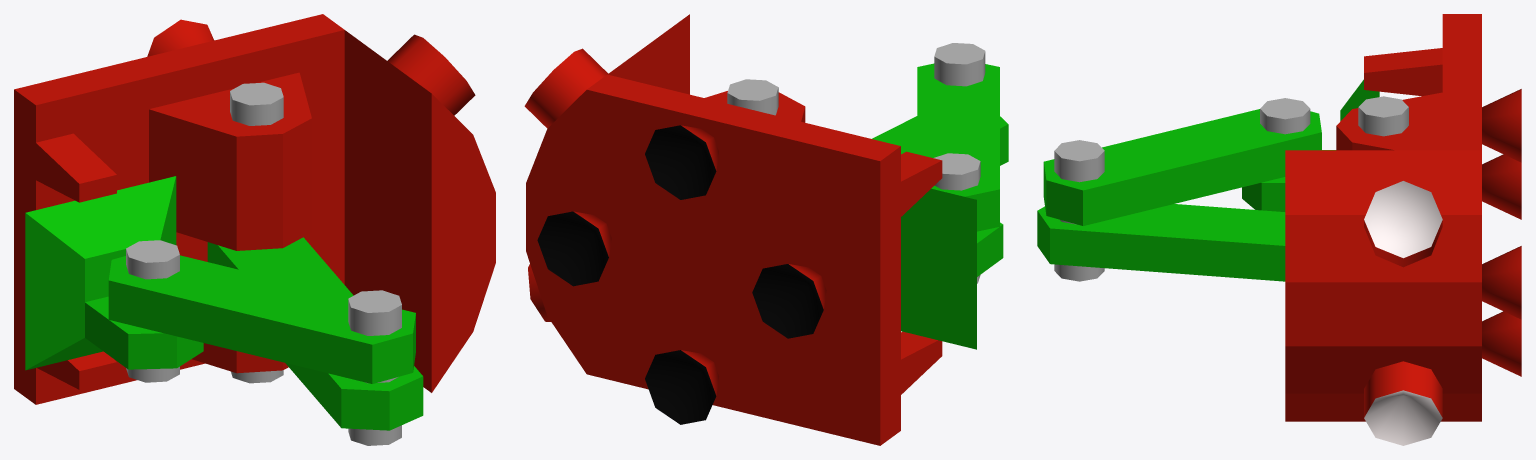
File: robot_builder.gltf
The picture shows the model from 3 angles, left to right: view 1: azimuth 30°, elevation 25°; view 2: azimuth 150°, elevation 25°; view 3: azimuth 270°, elevation 25°; orthographic projection. The views are drawn at different scales.
Parts seen in each view (by area): view 1: BodyBase, Cube.003, Cube.001, Cube.004, Cube.002, SonarLeft, Cylinder2, Cylinder1, Cylinder3, Cube, Nozzle2; view 2: BodyBase, Cube.004, Cube.003, Nozzle2.001, Nozzle2.002, Nozzle2.003, Nozzle2.004, SonarLeft, Cylinder2, Cylinder1, Cylinder3, Cube.002 (+1 smaller); view 3: BodyBase, Cube.003, Cube.002, SonarLeft.001, Cube.001, SonarLeft.002, Cylinder2, SonarRight, Nozzle2, Nozzle3, Nozzle1, Nozzle4 (+4 smaller).
Boxes of the visible parts, x1=… form: BodyBase: x1=14, y1=14, x2=495, y2=404; Cube.003: x1=108, y1=255, x2=415, y2=383; Cube.001: x1=149, y1=72, x2=311, y2=250; Cube.004: x1=25, y1=176, x2=203, y2=370; Cube.002: x1=207, y1=237, x2=423, y2=430; SonarLeft: x1=387, y1=34, x2=475, y2=115; Cylinder2: x1=348, y1=290, x2=401, y2=445; Cylinder1: x1=230, y1=82, x2=283, y2=383; Cylinder3: x1=126, y1=240, x2=179, y2=382; Cube: x1=192, y1=343, x2=288, y2=373; Nozzle2: x1=147, y1=19, x2=214, y2=56; BodyBase: x1=526, y1=14, x2=942, y2=445; Cube.004: x1=901, y1=188, x2=1003, y2=349; Cube.003: x1=917, y1=63, x2=999, y2=231; Nozzle2.001: x1=645, y1=125, x2=716, y2=199; Nozzle2.002: x1=537, y1=211, x2=608, y2=286; Nozzle2.003: x1=645, y1=350, x2=716, y2=424; Nozzle2.004: x1=752, y1=264, x2=823, y2=338; SonarLeft: x1=524, y1=48, x2=608, y2=128; Cylinder2: x1=934, y1=43, x2=985, y2=86; Cylinder1: x1=727, y1=79, x2=778, y2=115; Cylinder3: x1=933, y1=153, x2=980, y2=283; Cube.002: x1=872, y1=116, x2=1008, y2=165; BodyBase: x1=1285, y1=14, x2=1481, y2=421; Cube.003: x1=1043, y1=109, x2=1321, y2=225; Cube.002: x1=1037, y1=204, x2=1285, y2=281; SonarLeft.001: x1=1364, y1=181, x2=1442, y2=258; Cube.001: x1=1336, y1=92, x2=1442, y2=150; SonarLeft.002: x1=1364, y1=390, x2=1442, y2=445; Cylinder2: x1=1054, y1=140, x2=1104, y2=281; SonarRight: x1=1364, y1=361, x2=1442, y2=417; Nozzle2: x1=1482, y1=89, x2=1521, y2=162; Nozzle3: x1=1482, y1=246, x2=1521, y2=319; Nozzle1: x1=1482, y1=154, x2=1521, y2=219; Nozzle4: x1=1482, y1=311, x2=1521, y2=376.
Size of the model in its own units: 1.21 by 0.8 by 1.23.
